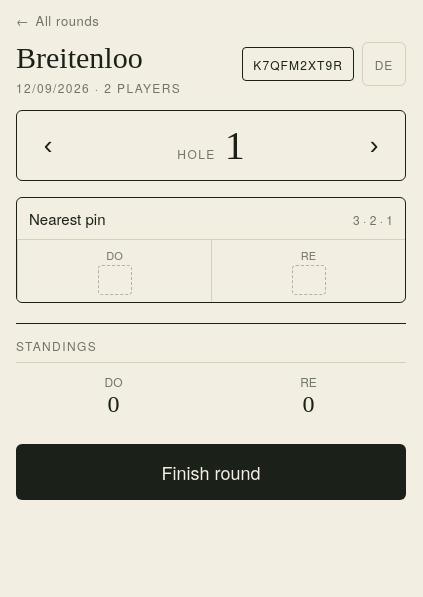
Test: LiveRound › shows an error and keeps the pending selection when save fails at the network level
Click the button with test id "cell-c1-p1" at (114, 270), box [17,240,211,302]
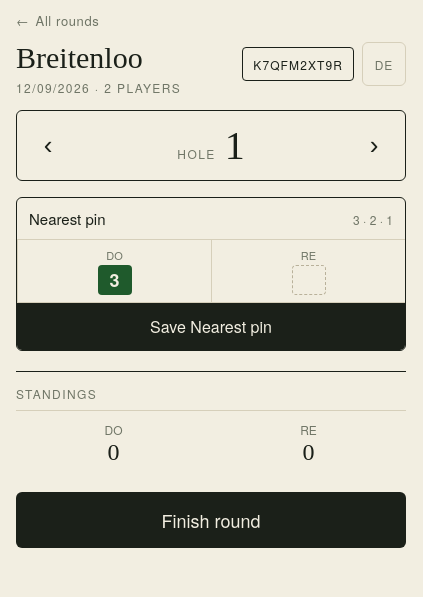
Now the button with test id "cell-c1-p1" shows "3", box [17,240,211,302]
Click the button with test id "save-c1" at (211, 326), box [17,302,405,350]
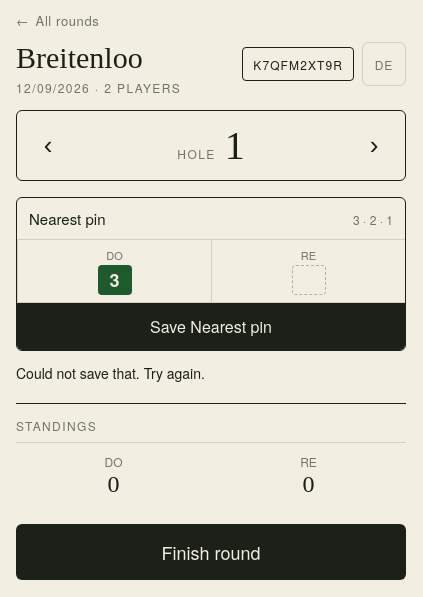
Now the button with test id "cell-c1-p1" shows "3", box [17,240,211,302]
Now the button with test id "save-c1" is shown, box [17,302,405,350]
Now the text "Could not save that. Try again." is shown, box [16,362,205,382]
